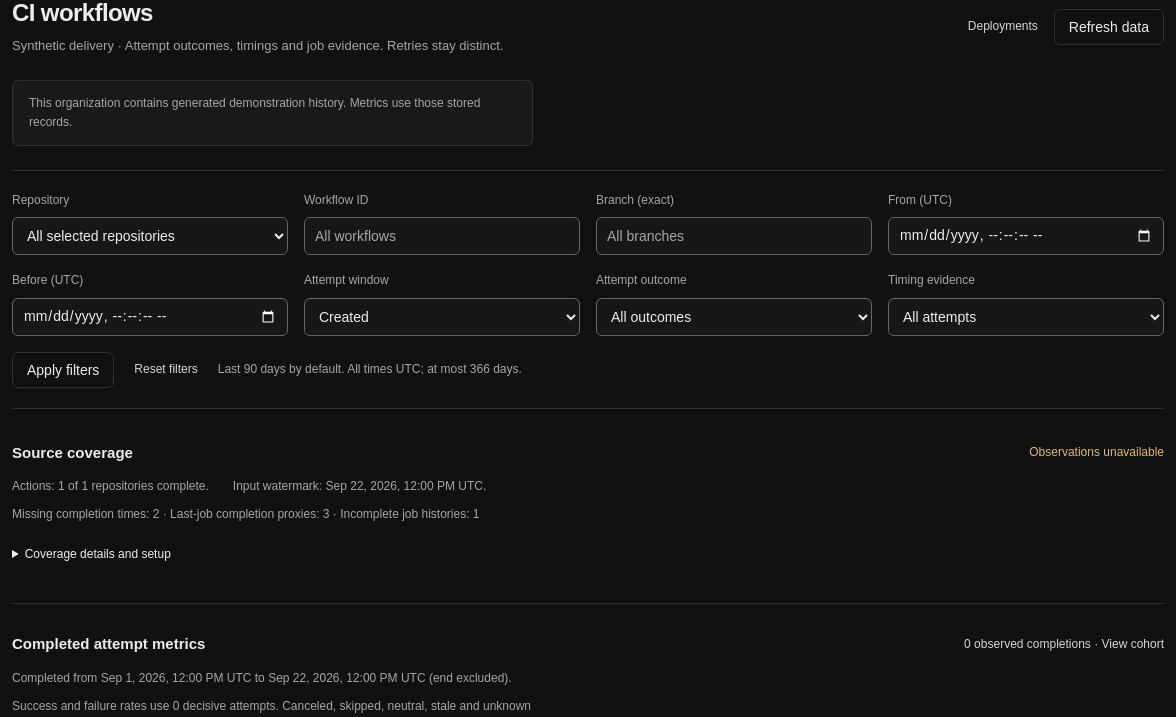
it: delivery evidence › does not turn a zero-observation unavailable source into a healthy zero rate
expect the text "Observations unavailable" is shown: met, box [1029,443,1164,462]
Step 1. Click the heading "Coverage details and setup" → click(98, 554), box [25,547,171,561]
(page scrolled)
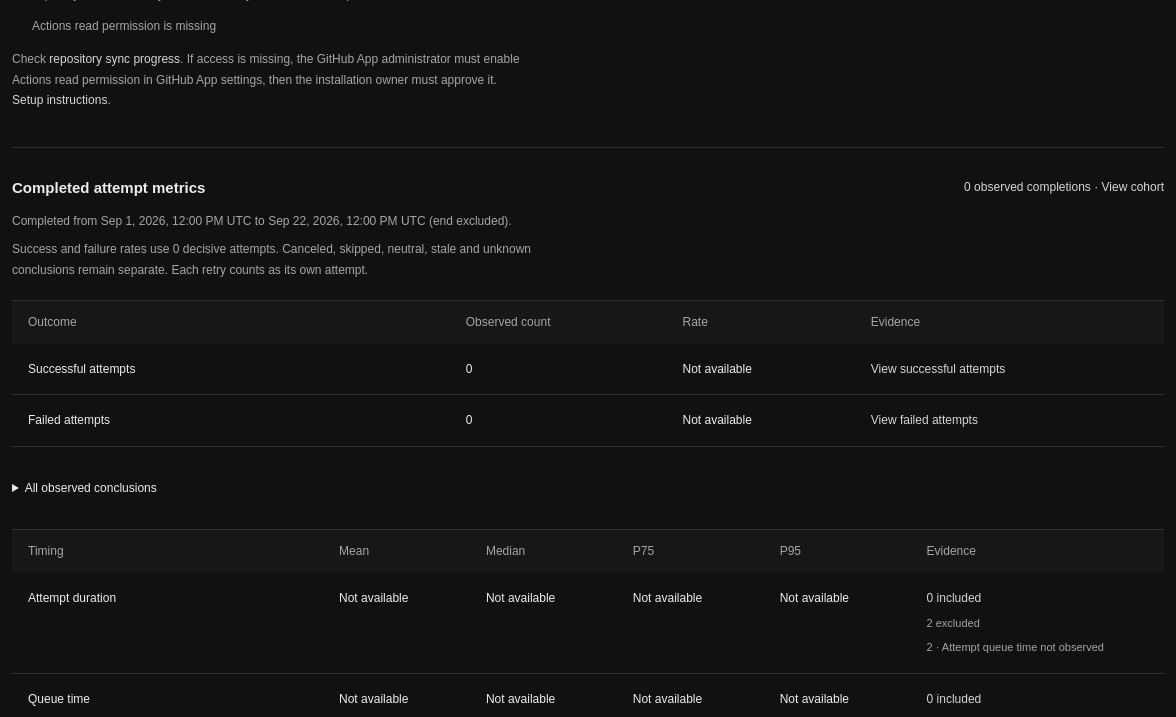
expect the text "Not available" next to "View successful attempts" is shown: met, box [682,362,752,376]
expect the list item "Actions read permission is missing" is shown: met, box [32,19,216,33]
expect the text "administrator must enable Actions read permission" is shown: met, box [12,50,532,111]
